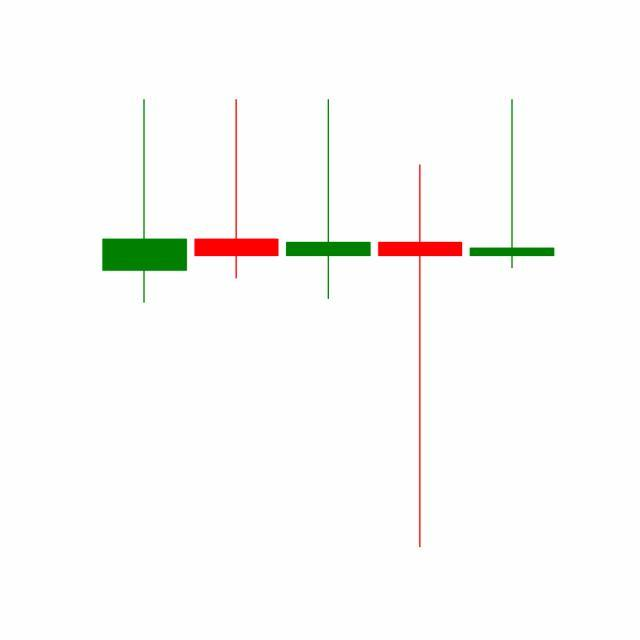Spinning Top: (374, 161, 468, 553)
